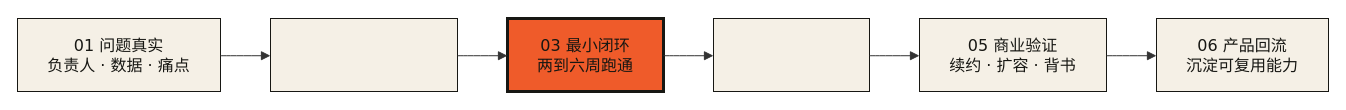
Some shapes in this 1346 by 110 pixel diagram are drawn without their labels. Here are the shapes that lost their labels. From the top down, the centre of each, then its label:
the point at 364,55: 02 价值可量 基线 · 指标 · 口径
the point at 791,55: 04 行为激活 形成稳定使用
